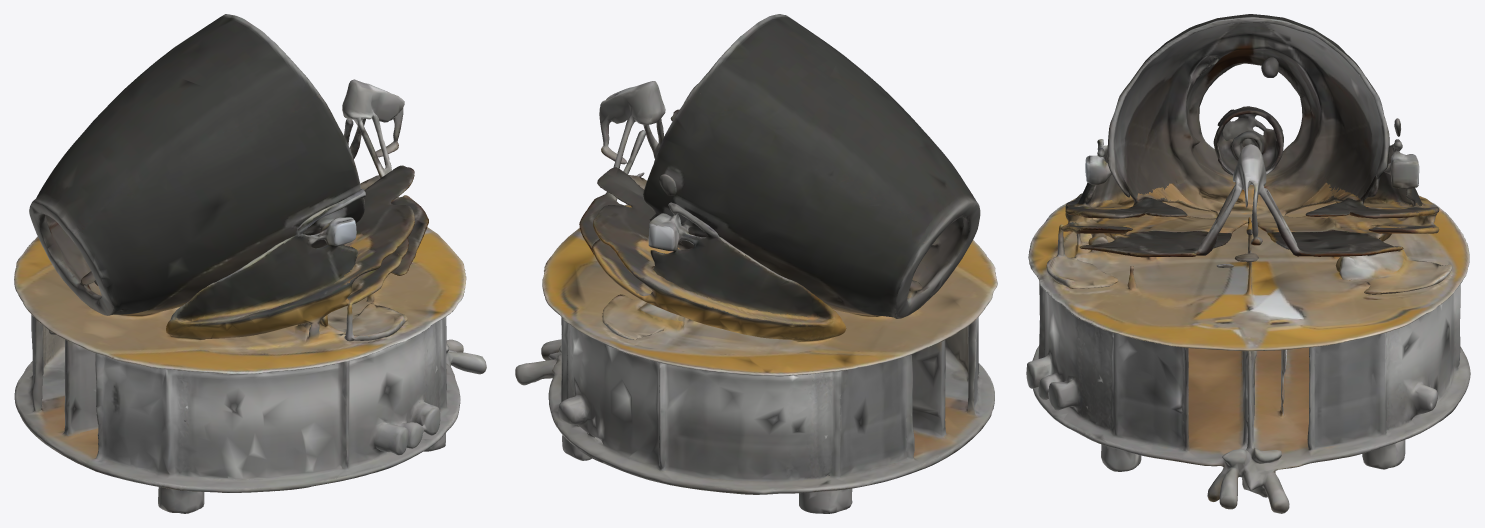
Rendered from ariel.glb.
3 views of the same model, side by side, from view 1: azimuth 30°, elevation 25°; view 2: azimuth 150°, elevation 25°; view 3: azimuth 270°, elevation 25° (orthographic).
Bounding box in the file's own units: 2 × 1.78 × 1.8.
1 material, 1 textured.
